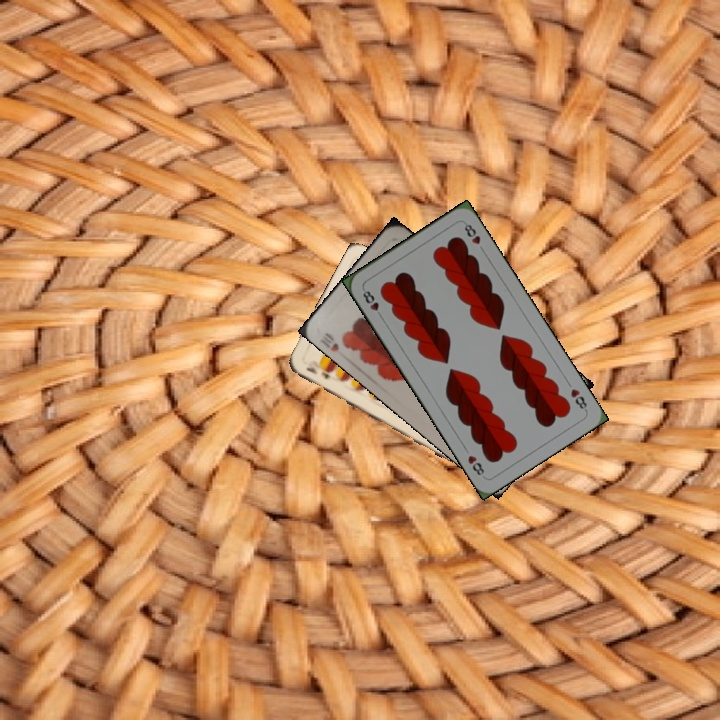E10: (302, 363, 333, 381)
H10: (321, 328, 342, 354)
H8: (359, 285, 386, 321), (566, 384, 590, 414)
